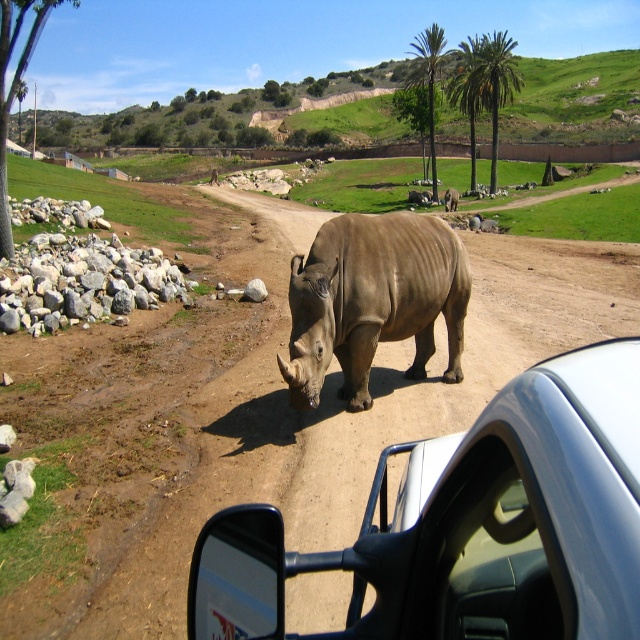Rhinoceros: (277, 207, 473, 425)
